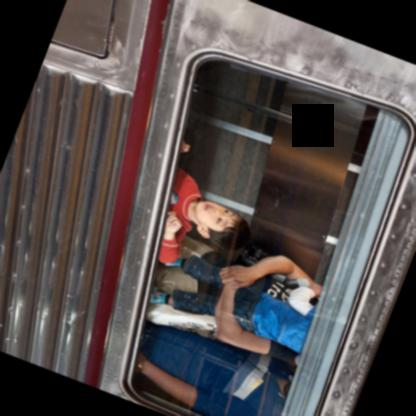handbag: (145, 302, 216, 330)
